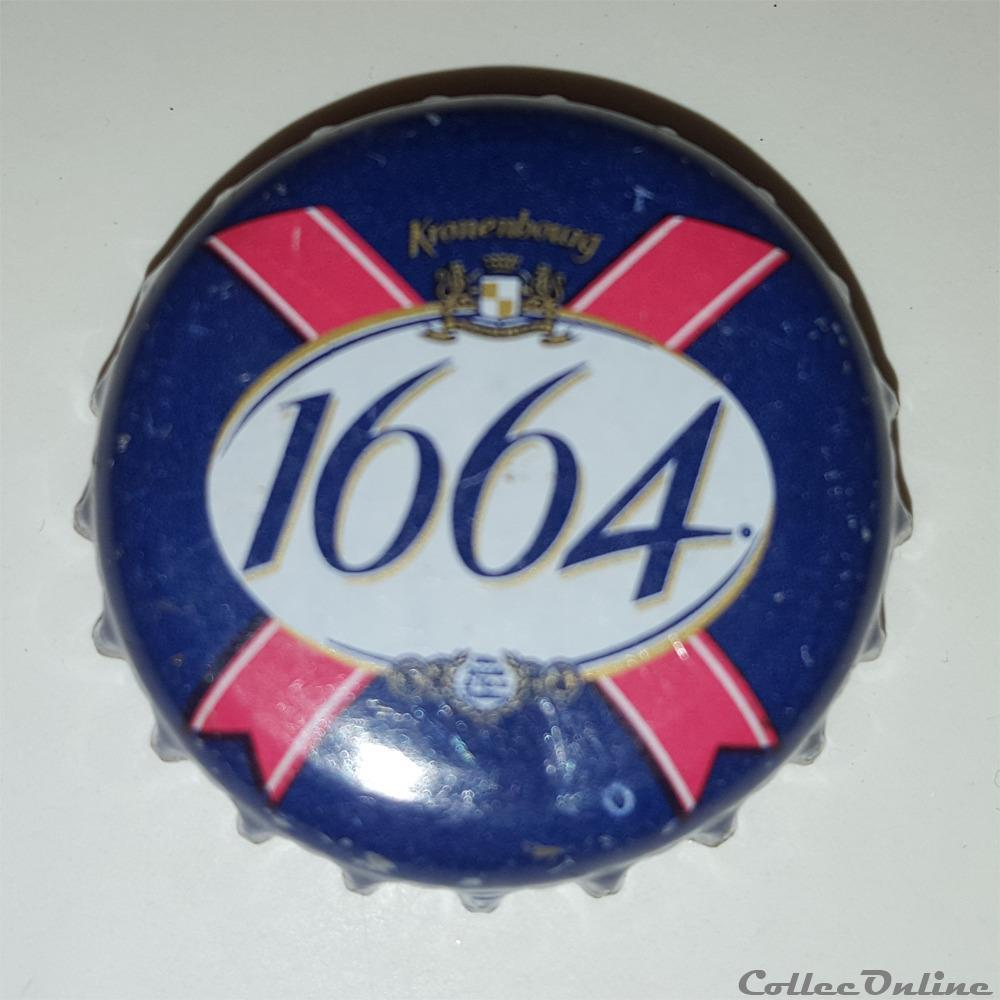metal: (76, 66, 910, 911)
